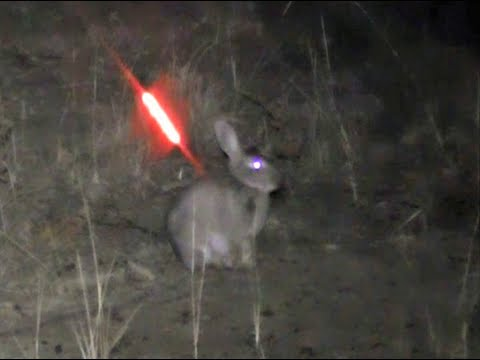rabbit: (176, 126, 303, 318)
